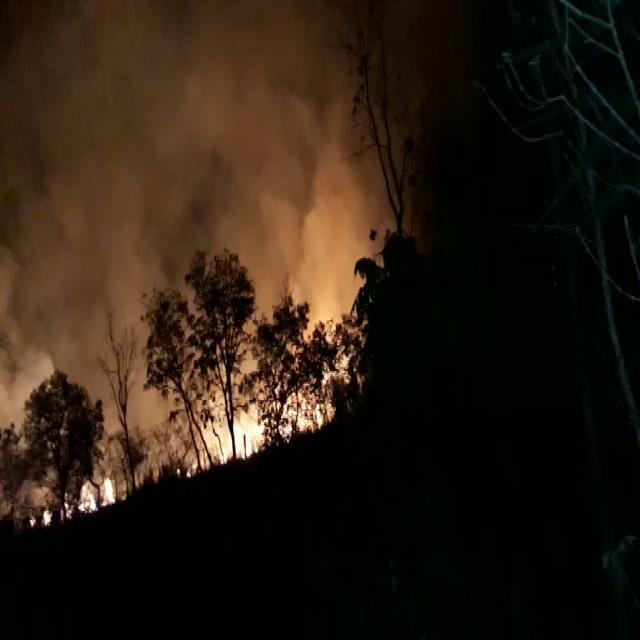Fire: (235, 407, 262, 460), (80, 478, 97, 513), (104, 472, 118, 510)
Smoke: (63, 225, 169, 420), (289, 85, 381, 296), (0, 237, 56, 455), (254, 180, 304, 309), (0, 331, 56, 445)
